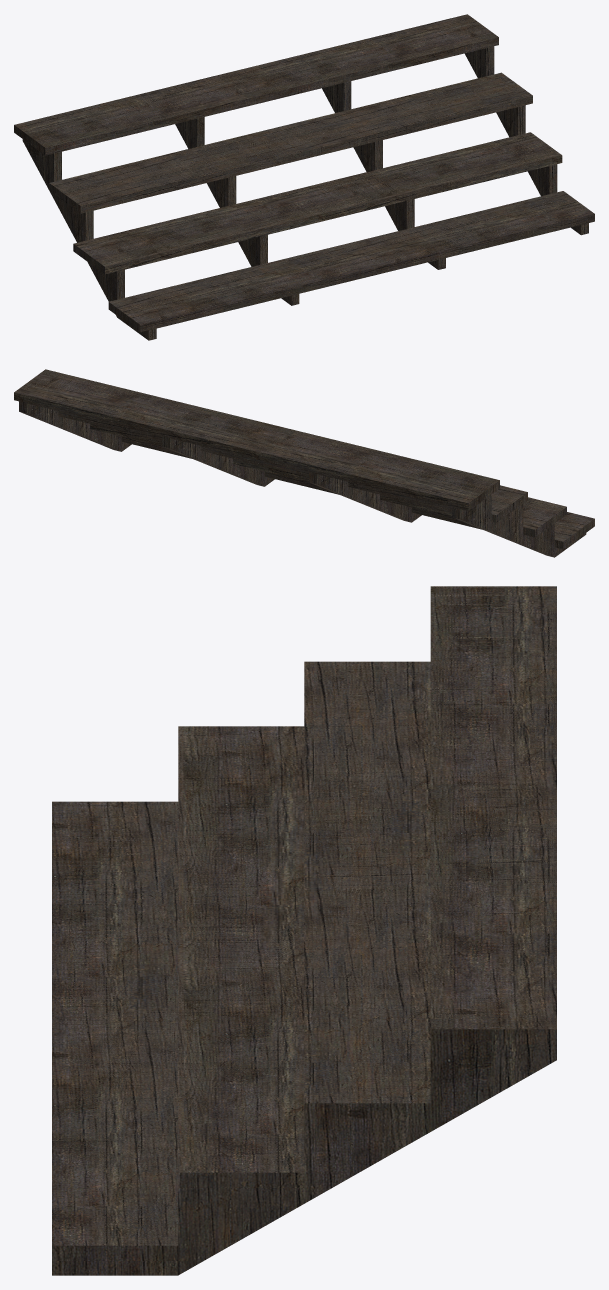
Rendered from Stairs.fbx.
3 views of the same model, one above another, from view 1: azimuth 30°, elevation 25°; view 2: azimuth 150°, elevation 25°; view 3: azimuth 270°, elevation 25° (orthographic). The views are drawn at different scales.
Visible parts, largest first — view 1: Model; view 2: Model; view 3: Model.
Part boxes in pixels (x1,y1,x2,y2): Model: [14, 14, 594, 340]; Model: [14, 369, 594, 557]; Model: [52, 586, 556, 1275].
Size of the model in its own units: 93.88 by 24.5 by 44.64.
